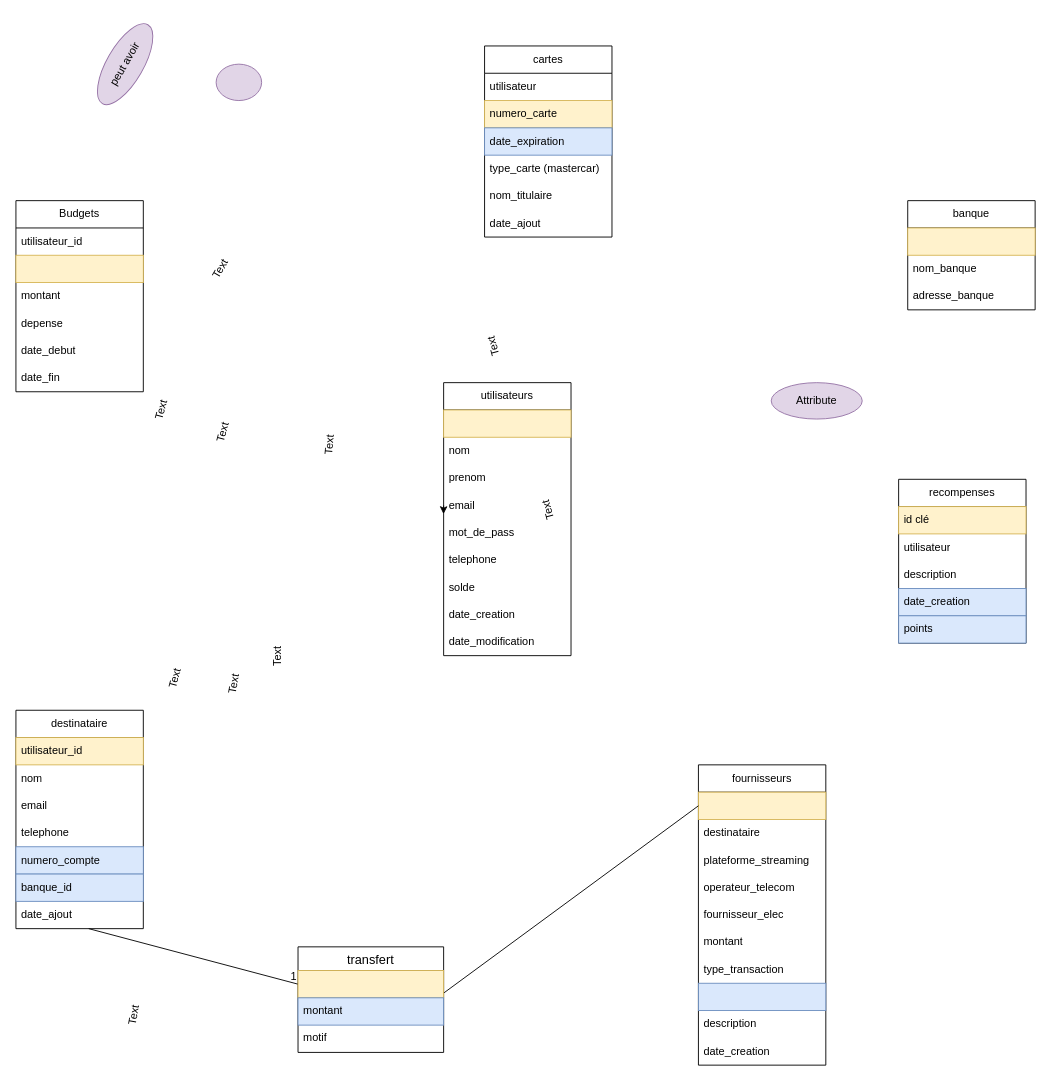
The diagram is 1051 pixels wide and 1082 high, and some of its shapes have lost their labels. Each missing label, with the centre of its shape:
_id_banque clé: point (971, 241)
categorie_id clé: point (79, 268)
défini: point (238, 82)
Id_transfert: point (370, 984)
id_utilisateur clé: point (507, 423)
statut: point (762, 996)
utilisateur_id clé: point (762, 805)
